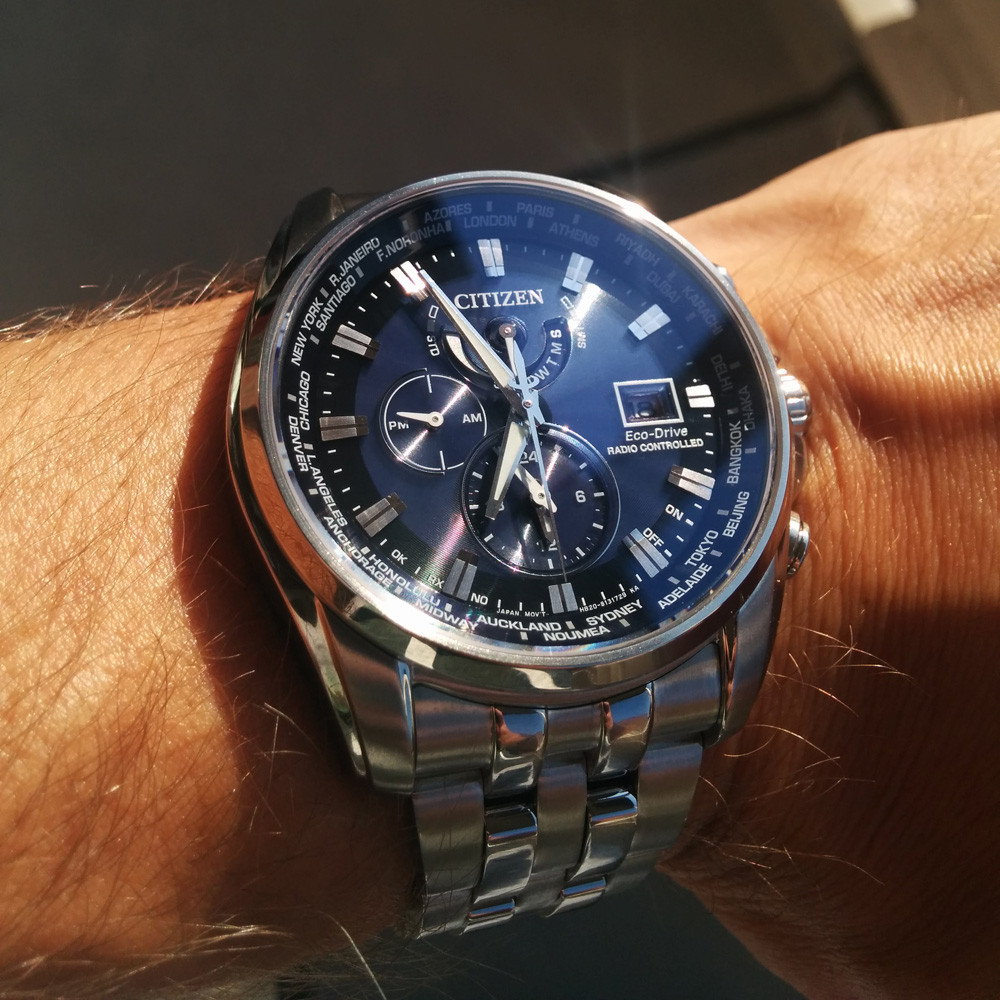clock: (270, 176, 778, 656)
